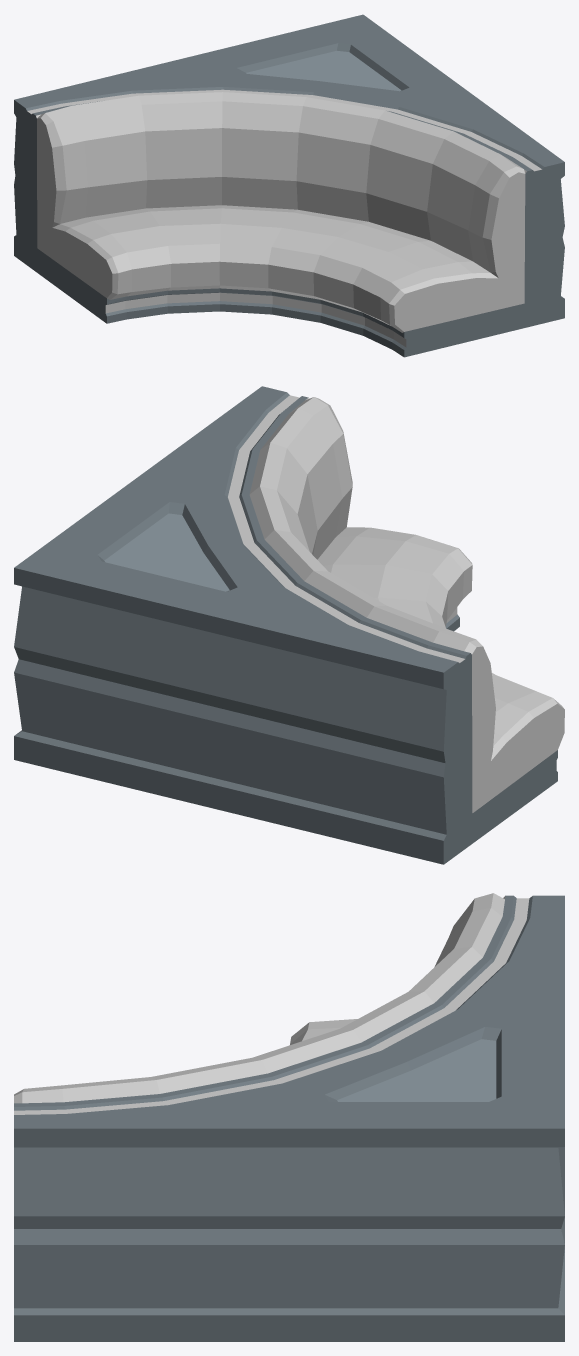
Rendered from SM_Prop_Sofa_02_Corner_02.fbx.
The picture shows the model from 3 angles, top to bottom: view 1: azimuth 30°, elevation 25°; view 2: azimuth 150°, elevation 25°; view 3: azimuth 270°, elevation 25°; orthographic projection. The views are drawn at different scales.
Visible parts, largest first — view 1: SM_Prop_Sofa_02_Corner_02; view 2: SM_Prop_Sofa_02_Corner_02; view 3: SM_Prop_Sofa_02_Corner_02.
Boxes of the visible parts, x1=… form: SM_Prop_Sofa_02_Corner_02: x1=14, y1=14, x2=564, y2=357; SM_Prop_Sofa_02_Corner_02: x1=14, y1=386, x2=564, y2=864; SM_Prop_Sofa_02_Corner_02: x1=14, y1=893, x2=564, y2=1341.
Size of the model in its own units: 250 by 111 by 250.
